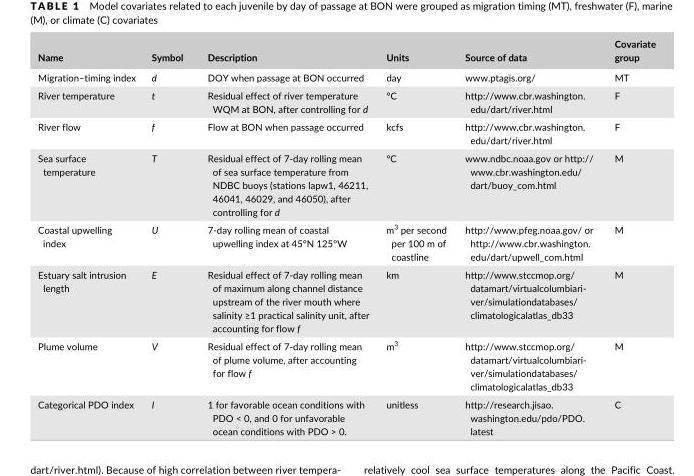table: (37, 37, 655, 436)
table column: (194, 37, 378, 436), (456, 37, 604, 436), (37, 37, 142, 436), (378, 37, 456, 436), (142, 37, 194, 436), (604, 37, 655, 436)
table column header: (37, 37, 655, 66)
table row: (37, 148, 655, 219), (37, 264, 655, 335), (37, 335, 655, 394), (37, 219, 655, 264), (37, 394, 655, 436), (37, 85, 655, 117), (37, 117, 655, 148), (37, 37, 655, 66), (37, 66, 655, 85)
